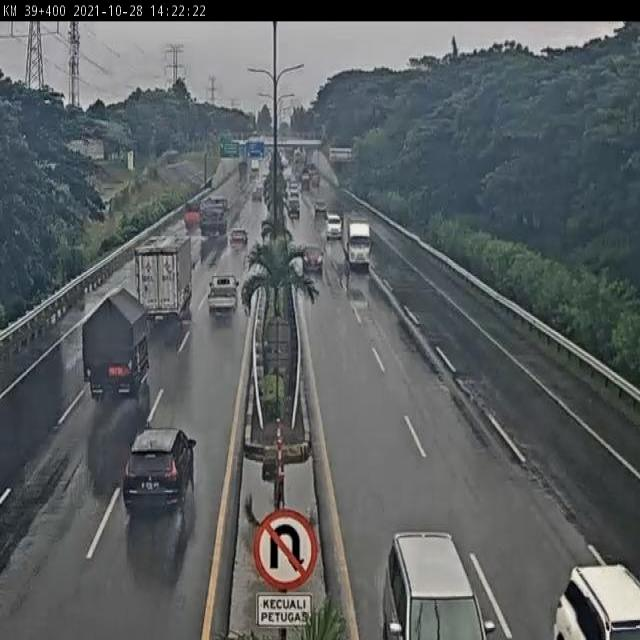Car: (380, 532, 497, 640), (125, 425, 198, 528), (547, 560, 640, 640), (205, 271, 240, 323), (300, 246, 326, 272), (327, 214, 342, 240), (232, 228, 248, 250), (286, 198, 300, 220), (313, 197, 326, 220)
Truck: (82, 287, 158, 407), (134, 234, 197, 332), (348, 220, 377, 272), (203, 197, 231, 241), (184, 202, 202, 230)
